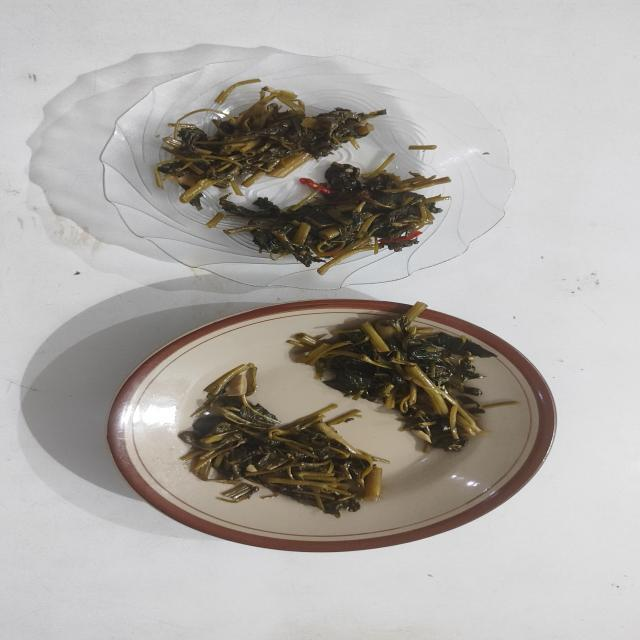tumis_kangkung: (178, 363, 388, 518), (287, 302, 498, 450), (156, 86, 387, 203), (238, 162, 451, 275)
